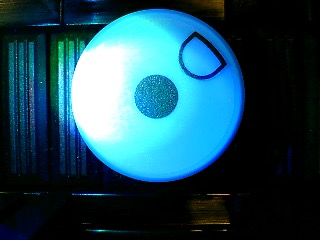BOHOMIPO1: (71, 8, 245, 183)
